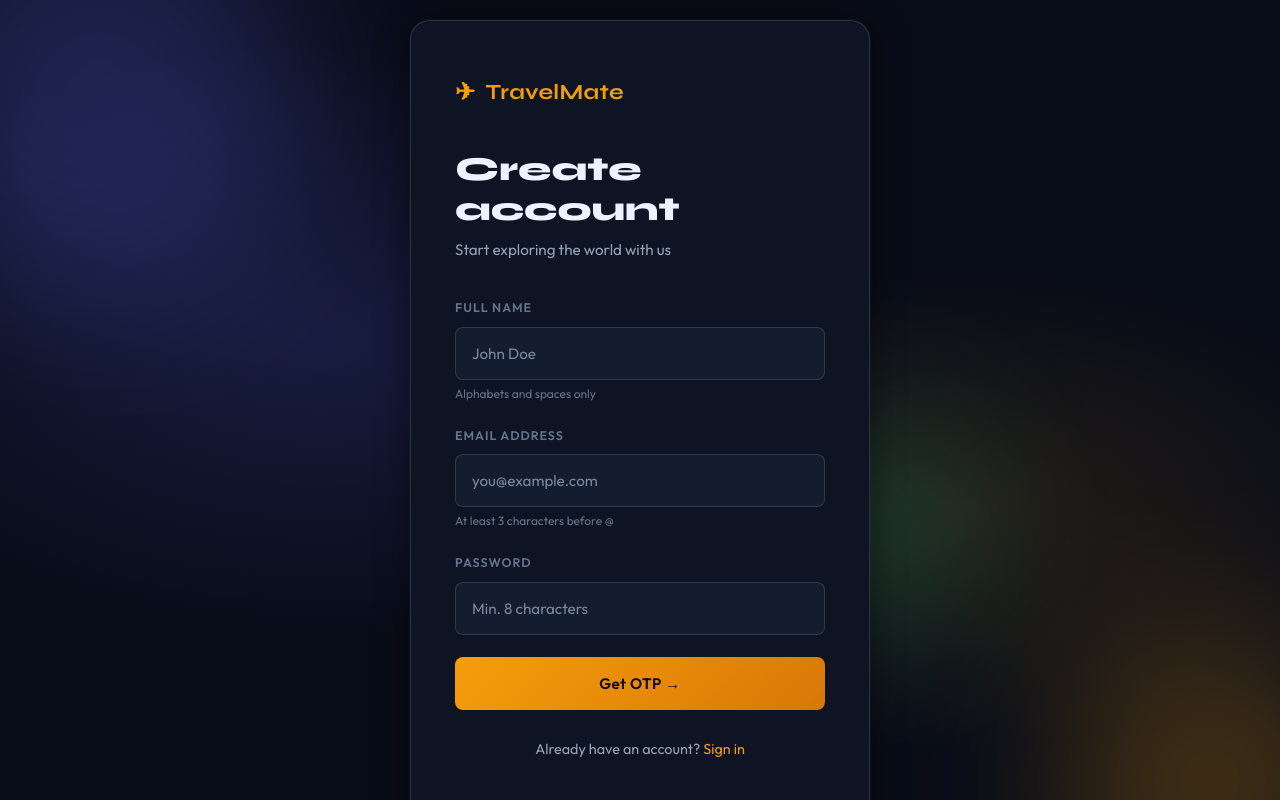
it: Register Component › shows error if fields are empty on step 1
Click the button "Get OTP →". click: click(640, 683)
box: 455,657 -> 825,710
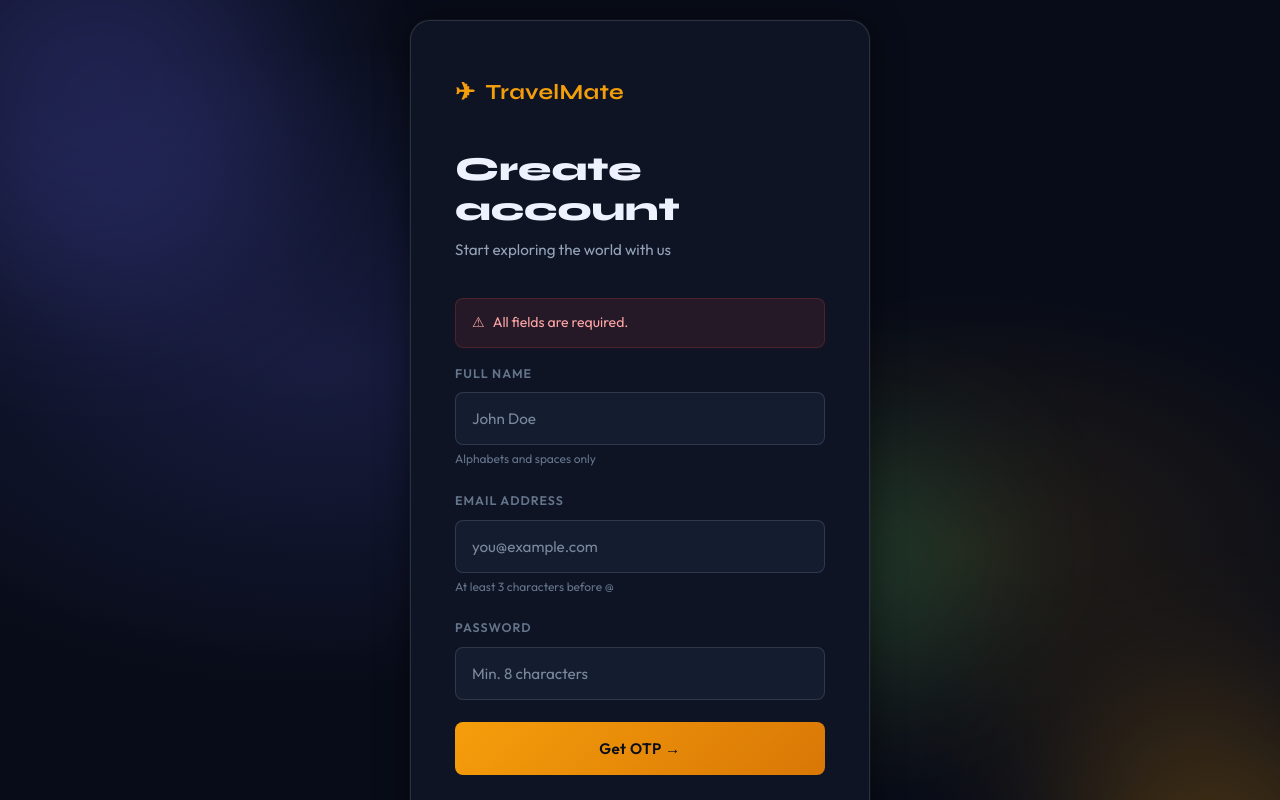
Expected: the text "All fields are required." is shown, 493,313 -> 628,331
